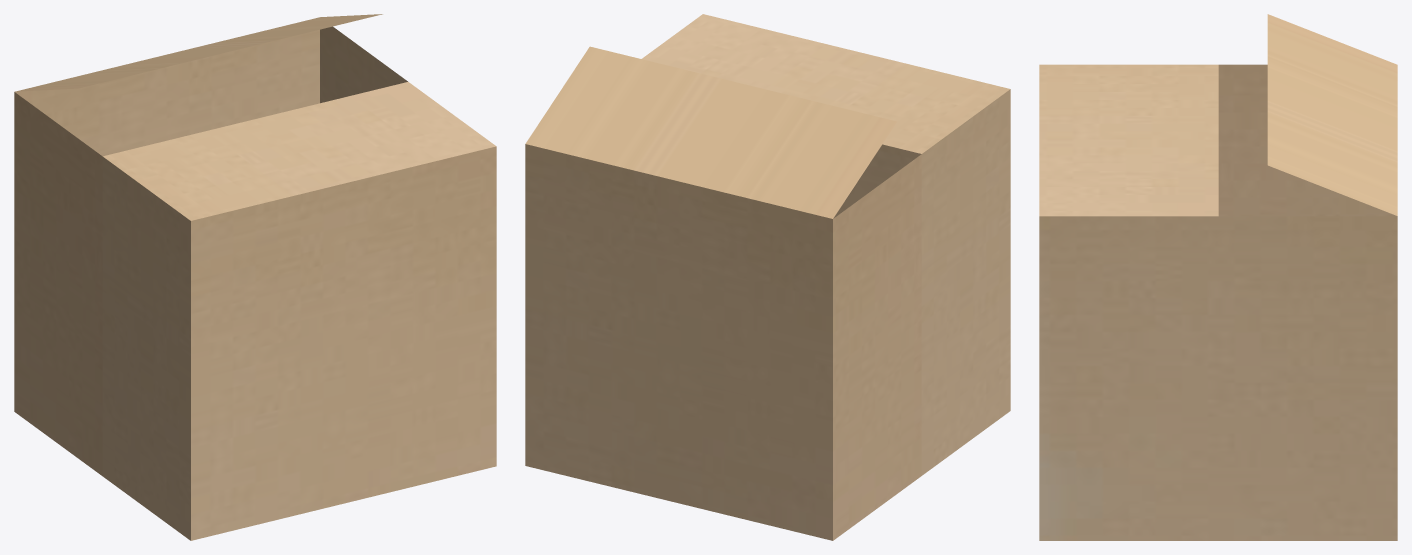
Rendered from kardus terbuka.fbx.
3 views of the same model, side by side, from view 1: azimuth 30°, elevation 25°; view 2: azimuth 150°, elevation 25°; view 3: azimuth 270°, elevation 25° (orthographic).
Visible parts, largest first — view 1: Cube; view 2: Cube; view 3: Cube.
Part boxes in pixels (bbox=[...]): Cube: bbox=[14, 14, 496, 540]; Cube: bbox=[525, 14, 1010, 540]; Cube: bbox=[1039, 14, 1397, 540].
Bounding box in the file's own units: 202 × 233 × 202.
